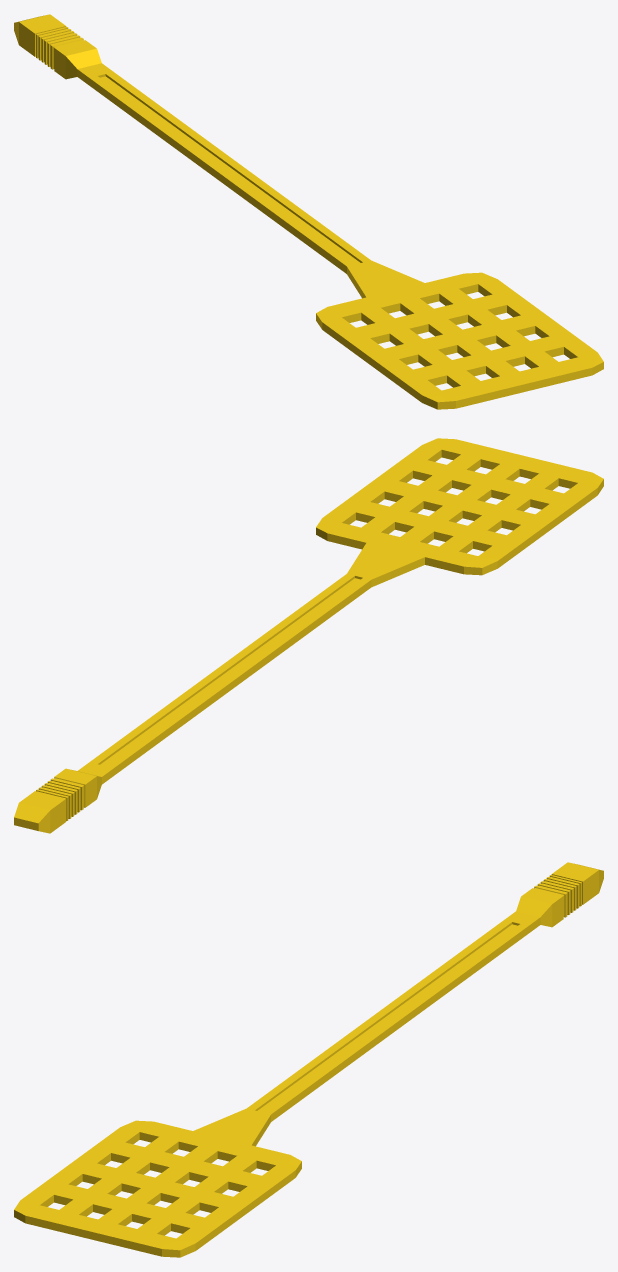
Rendered from fly swatter.obj.
3 renders of one model, top to bottom at view 1: azimuth 30°, elevation 25°; view 2: azimuth 150°, elevation 25°; view 3: azimuth 330°, elevation 25°, orthographic.
Parts seen in each view (by area): view 1: pPlane2; view 2: pPlane2; view 3: pPlane2.
Part boxes in pixels (box(x1,y1,x2,y2)): pPlane2: box(14, 14, 603, 409); pPlane2: box(14, 438, 603, 833); pPlane2: box(14, 862, 603, 1257).
Bounding box in the file's own units: 1.37 × 0.173 × 6.71.
